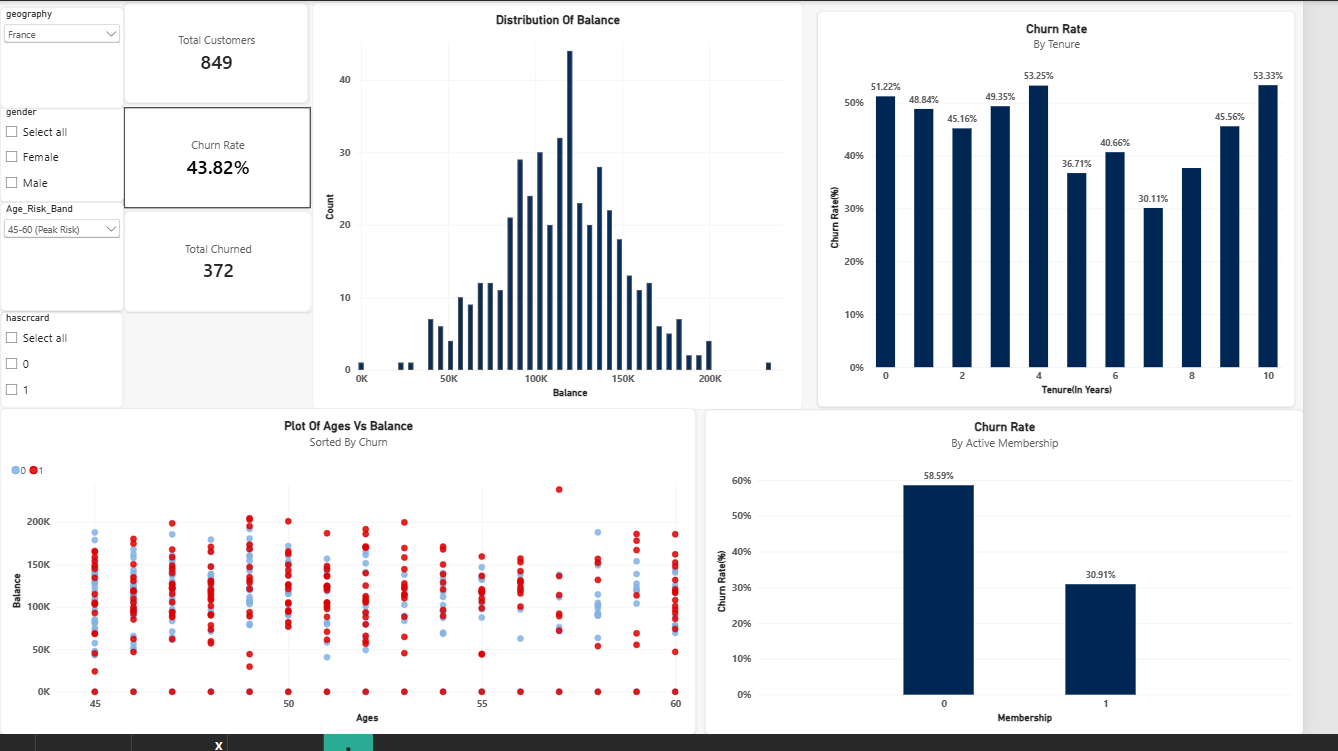

What the dashboard file says about the page in this screenshot:
{"tool":"powerbi","page":{"name":"Page 2","canvas":[1920,1080],"ordinal":1},"visuals":[{"type":"cardVisual","fields":{"Data":["Customers.Churn Rate"]},"box":[182.7,155.8,276.1,149.1],"z":0},{"type":"cardVisual","fields":{"Data":["Customers.Total Customers"]},"box":[182.7,1.9,272.4,149.1],"z":1000},{"type":"cardVisual","fields":{"Data":["Customers.Total Churned"]},"box":[182.7,309.6,277.9,149.1],"z":2000},{"type":"clusteredColumnChart","title":"Distribution Of Balance","fields":{"Category":["Customers.balance (bins)"],"Series":["Customers.geography"],"Y":["Count(Customers.balance)"]},"box":[460.1,1.8,721.5,600],"z":3000},{"type":"columnChart","title":"Churn Rate","fields":{"Category":["Customers.tenure"],"Series":["Customers.geography"],"Y":["Customers.Churn Rate"]},"box":[1203.7,14.7,703.1,583.4],"z":4000},{"type":"slicer","fields":{"Values":["Customers.hascrcard"]},"box":[0,455.8,182.2,143.6],"z":5000},{"type":"slicer","fields":{"Values":["Customers.gender"]},"box":[0,151.9,182.2,143.6],"z":6000},{"type":"slicer","fields":{"Values":["Customers.geography"]},"box":[0,9.6,182.2,149.1],"z":8000},{"type":"clusteredColumnChart","title":"Churn Rate","fields":{"Category":["Customers.isactivemember"],"Series":["Customers.geography"],"Y":["Customers.Churn Rate"]},"box":[1038,601.8,881.6,478.5],"z":9000},{"type":"scatterChart","title":"Plot Of Ages Vs Balance","fields":{"Series":["Customers.exited"],"X":["Customers.age"],"Y":["Customers.balance"]},"box":[0,600,1025.2,480.4],"z":11000},{"type":"slicer","fields":{"Values":["Customers.Age_Risk_Band"]},"box":[0,296.3,182.2,160.1],"z":11001}]}

Visuals, with their boxes on the page's 1920x1080 design canvas (x1, y1, x2, y2). These are canvas units, not pixel positions in the 1338x751 screenshot, which may show the page scaled, cropped or inside an application window:
cardVisual - Customers.Churn Rate: 183/156/459/305
cardVisual - Customers.Total Customers: 183/2/455/151
cardVisual - Customers.Total Churned: 183/310/461/459
"Distribution Of Balance" clusteredColumnChart: 460/2/1182/602
"Churn Rate" columnChart: 1204/15/1907/598
slicer - Customers.hascrcard: 0/456/182/599
slicer - Customers.gender: 0/152/182/296
slicer - Customers.geography: 0/10/182/159
"Churn Rate" clusteredColumnChart: 1038/602/1920/1080
"Plot Of Ages Vs Balance" scatterChart: 0/600/1025/1080
slicer - Customers.Age_Risk_Band: 0/296/182/456
